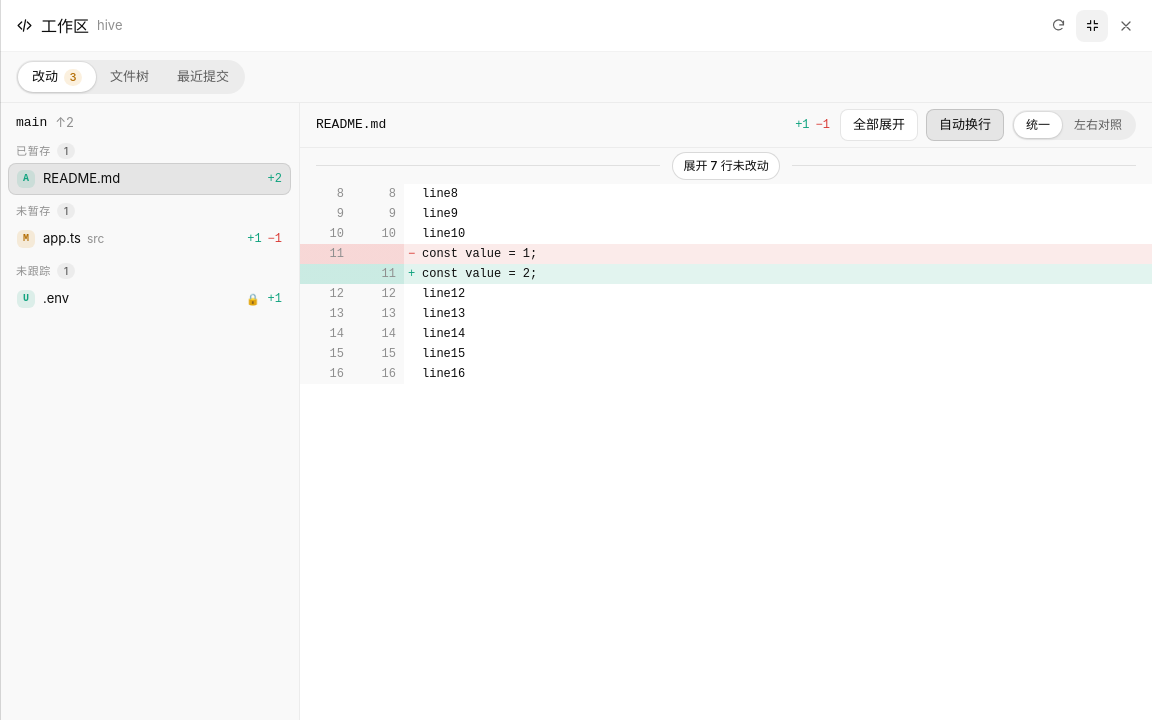
it: WorkspacePanel › 不能查看密钥的人只看到说明
What coordinates should you click on to do the following:
click the button "U .env 🔒 +1"
I would click on:
 (26, 299)
Its box is [8,283,291,314].
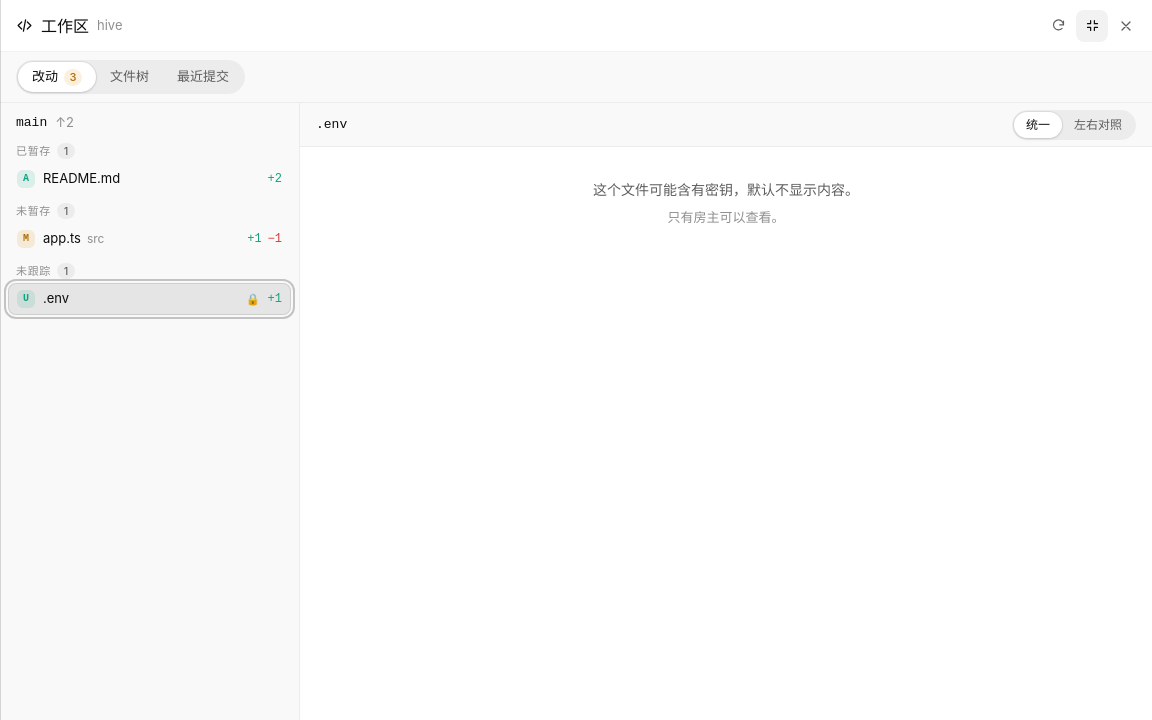
Expected: the text "只有房主可以查看。" is shown, [668,208,784,228]
